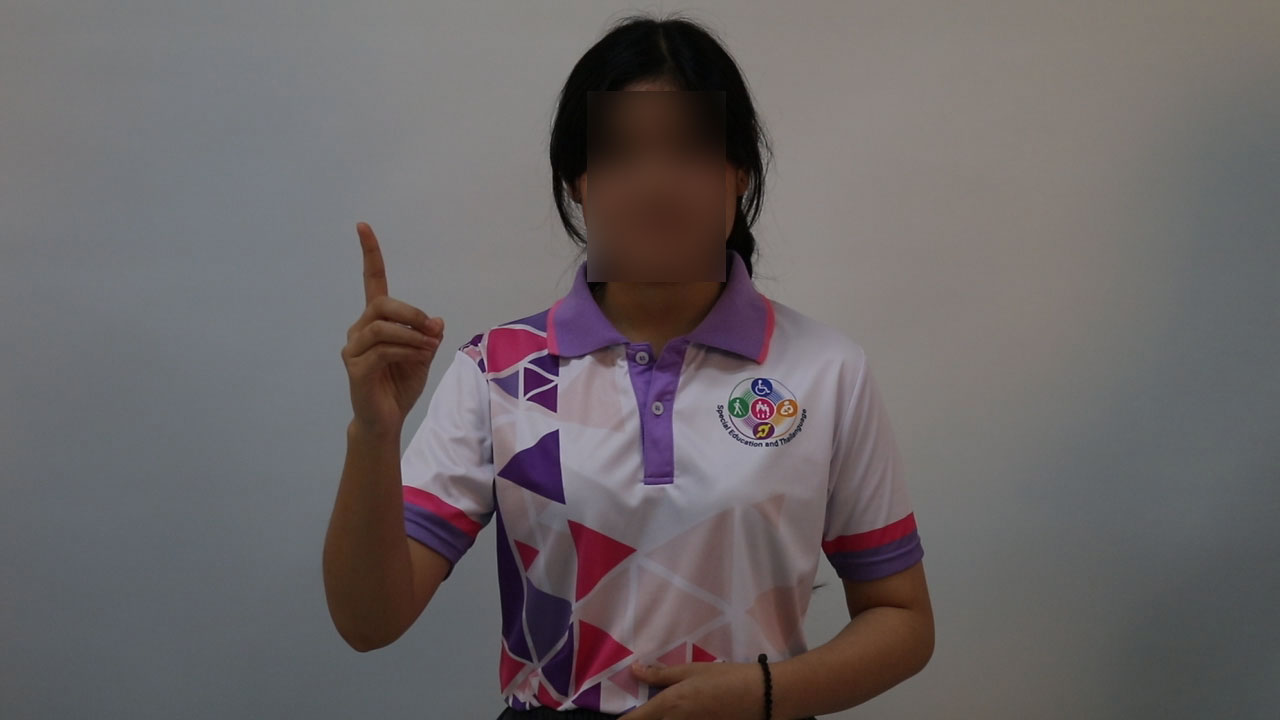dor: (321, 212, 451, 436)
